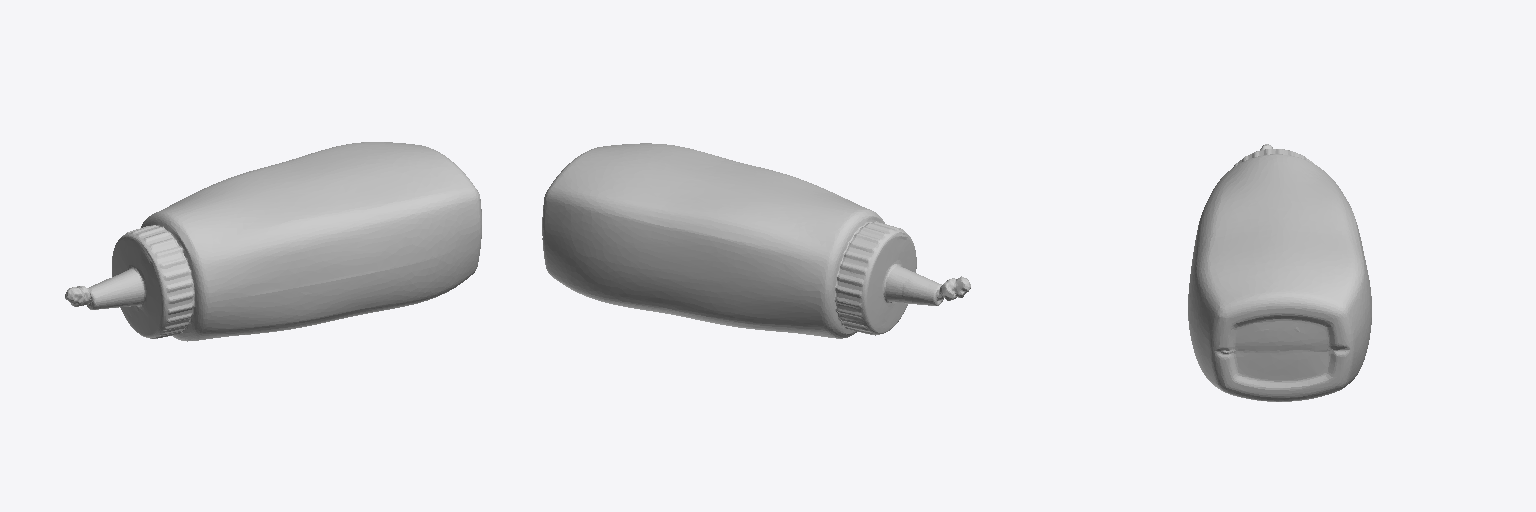
Rendered from Mustard.obj.
3 renders of one model, left to right at view 1: azimuth 30°, elevation 25°; view 2: azimuth 150°, elevation 25°; view 3: azimuth 270°, elevation 25°, orthographic.
Visible parts, largest first — view 1: textured.002; view 2: textured.002; view 3: textured.002.
Part boxes in pixels (bbox=[...]): textured.002: bbox=[65, 142, 481, 341]; textured.002: bbox=[542, 143, 970, 338]; textured.002: bbox=[1188, 144, 1371, 401].
Bounding box in the file's own units: 0.1601 × 0.0486 × 0.0651.